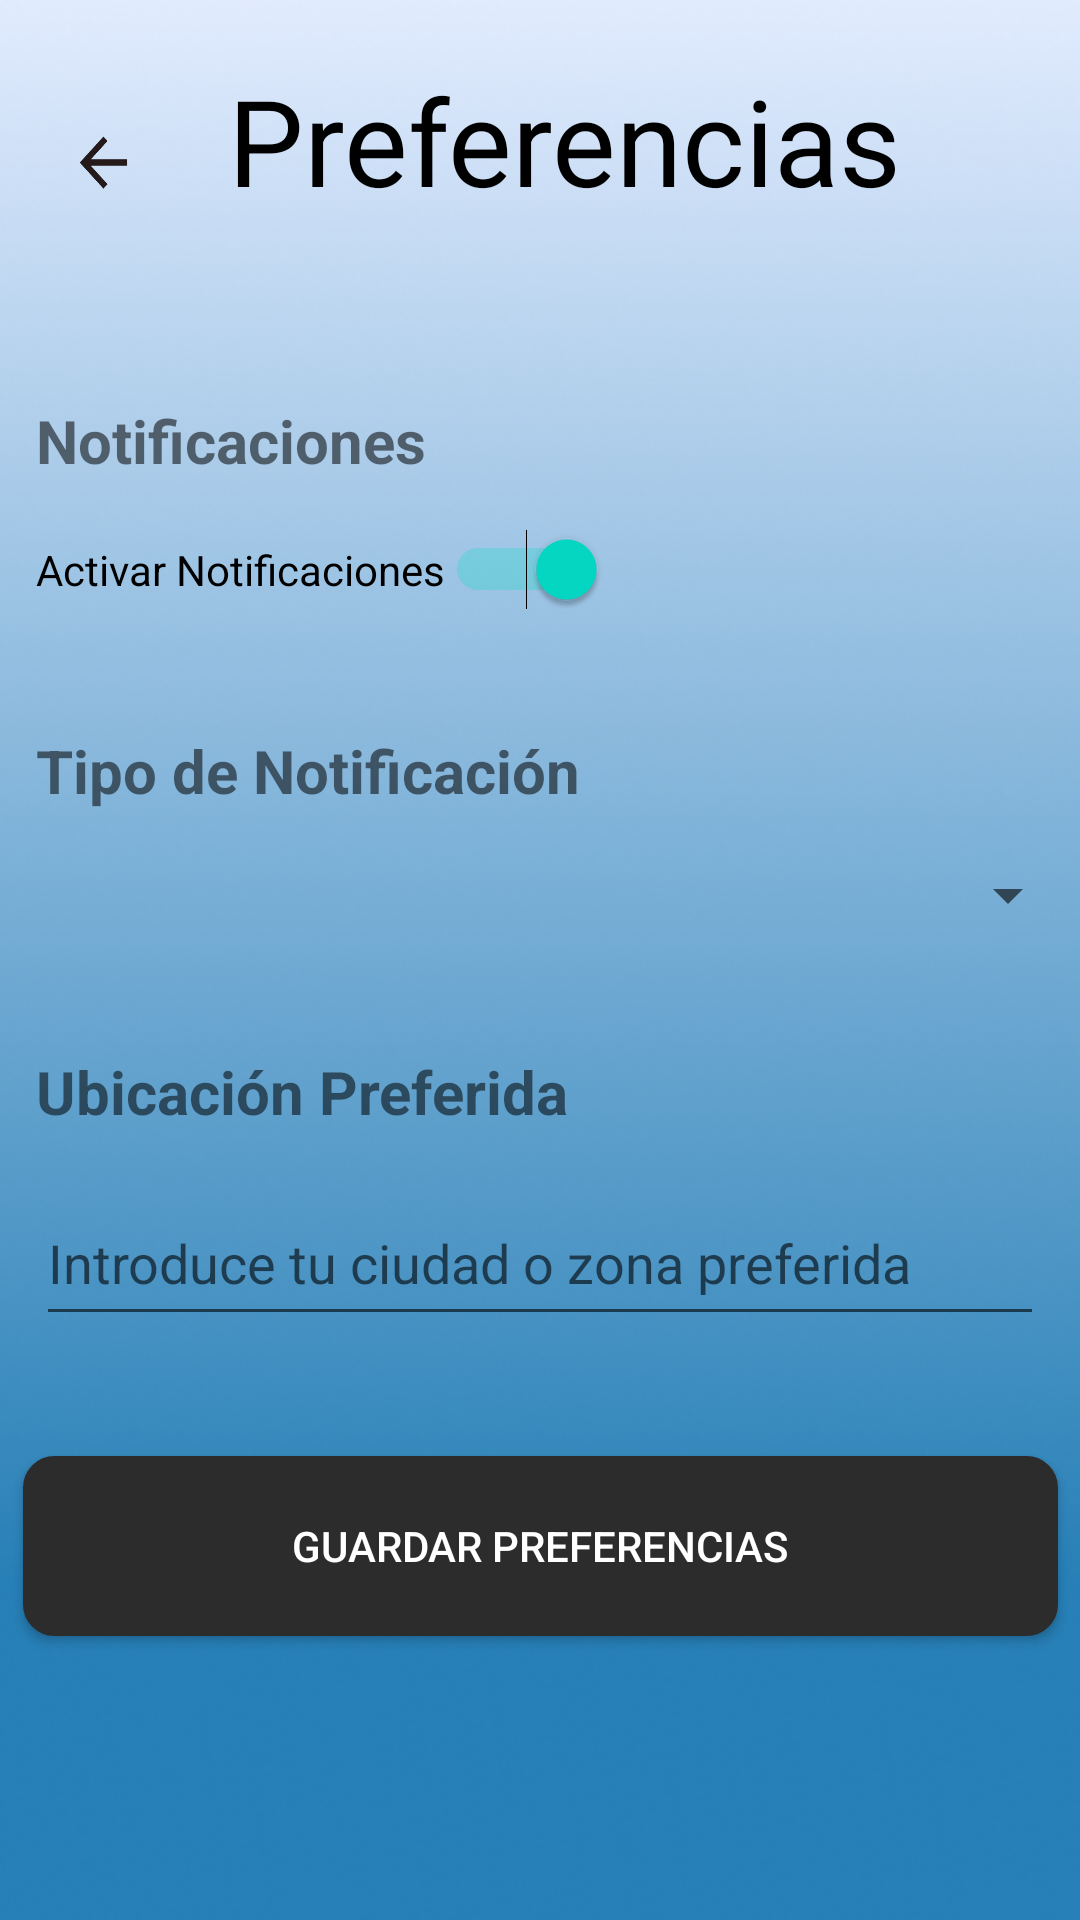

Named icons in this screenshot (1080px×1920px) and their centers, (x=x, y=y):
flecha atras negra: (x=103, y=162)
